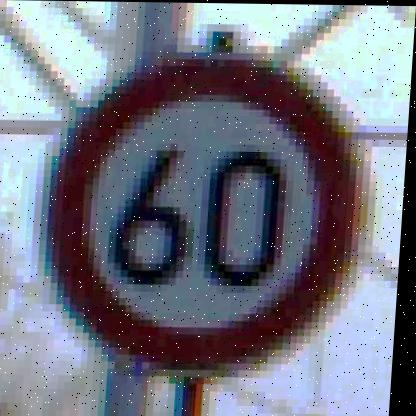Speed Limit -60-: (30, 41, 384, 382)
